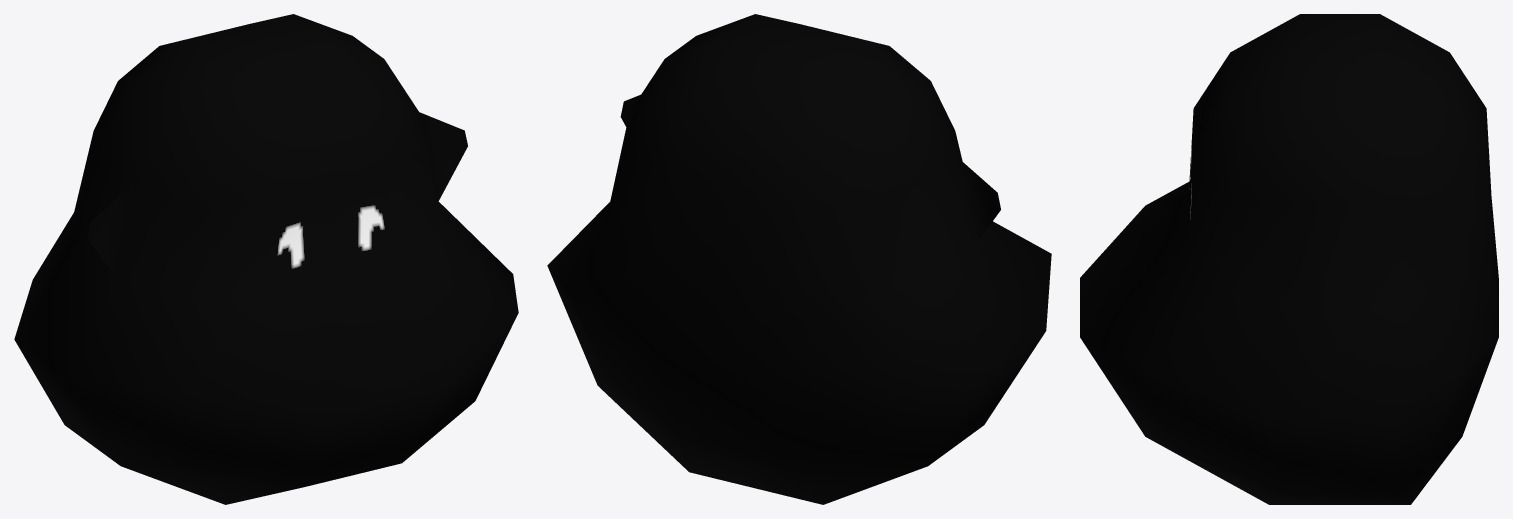
File: tessstxd.glb
The picture shows the model from 3 angles, left to right: view 1: azimuth 30°, elevation 25°; view 2: azimuth 150°, elevation 25°; view 3: azimuth 270°, elevation 25°; orthographic projection. The views are drawn at different scales.
Parts seen in each view (by area): view 1: Cube; view 2: Cube; view 3: Cube.
Boxes of the visible parts, left/top/right/bottom form: Cube: left=14, top=14, right=518, bottom=504; Cube: left=547, top=14, right=1051, bottom=504; Cube: left=1080, top=14, right=1498, bottom=504.
Bounding box in the file's own units: 3.2 × 2.92 × 2.58.
1 material, 1 textured.
